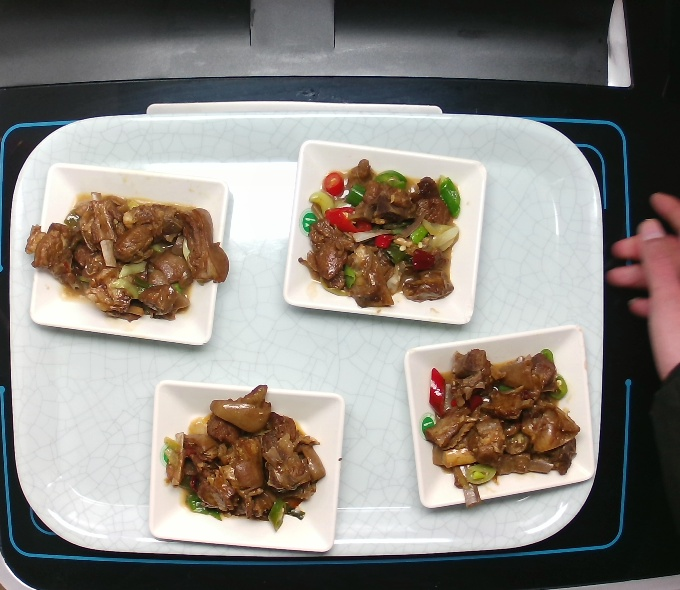wcq-YangRou: (23, 191, 231, 324), (419, 344, 580, 506), (301, 155, 463, 309), (164, 384, 327, 532)
